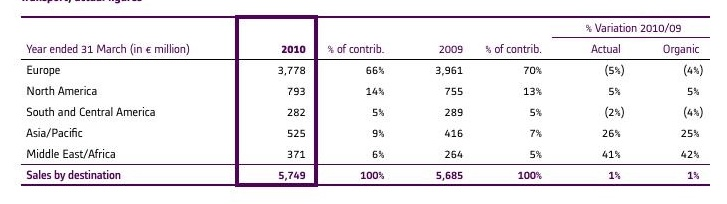table: (0, 0, 727, 204)
